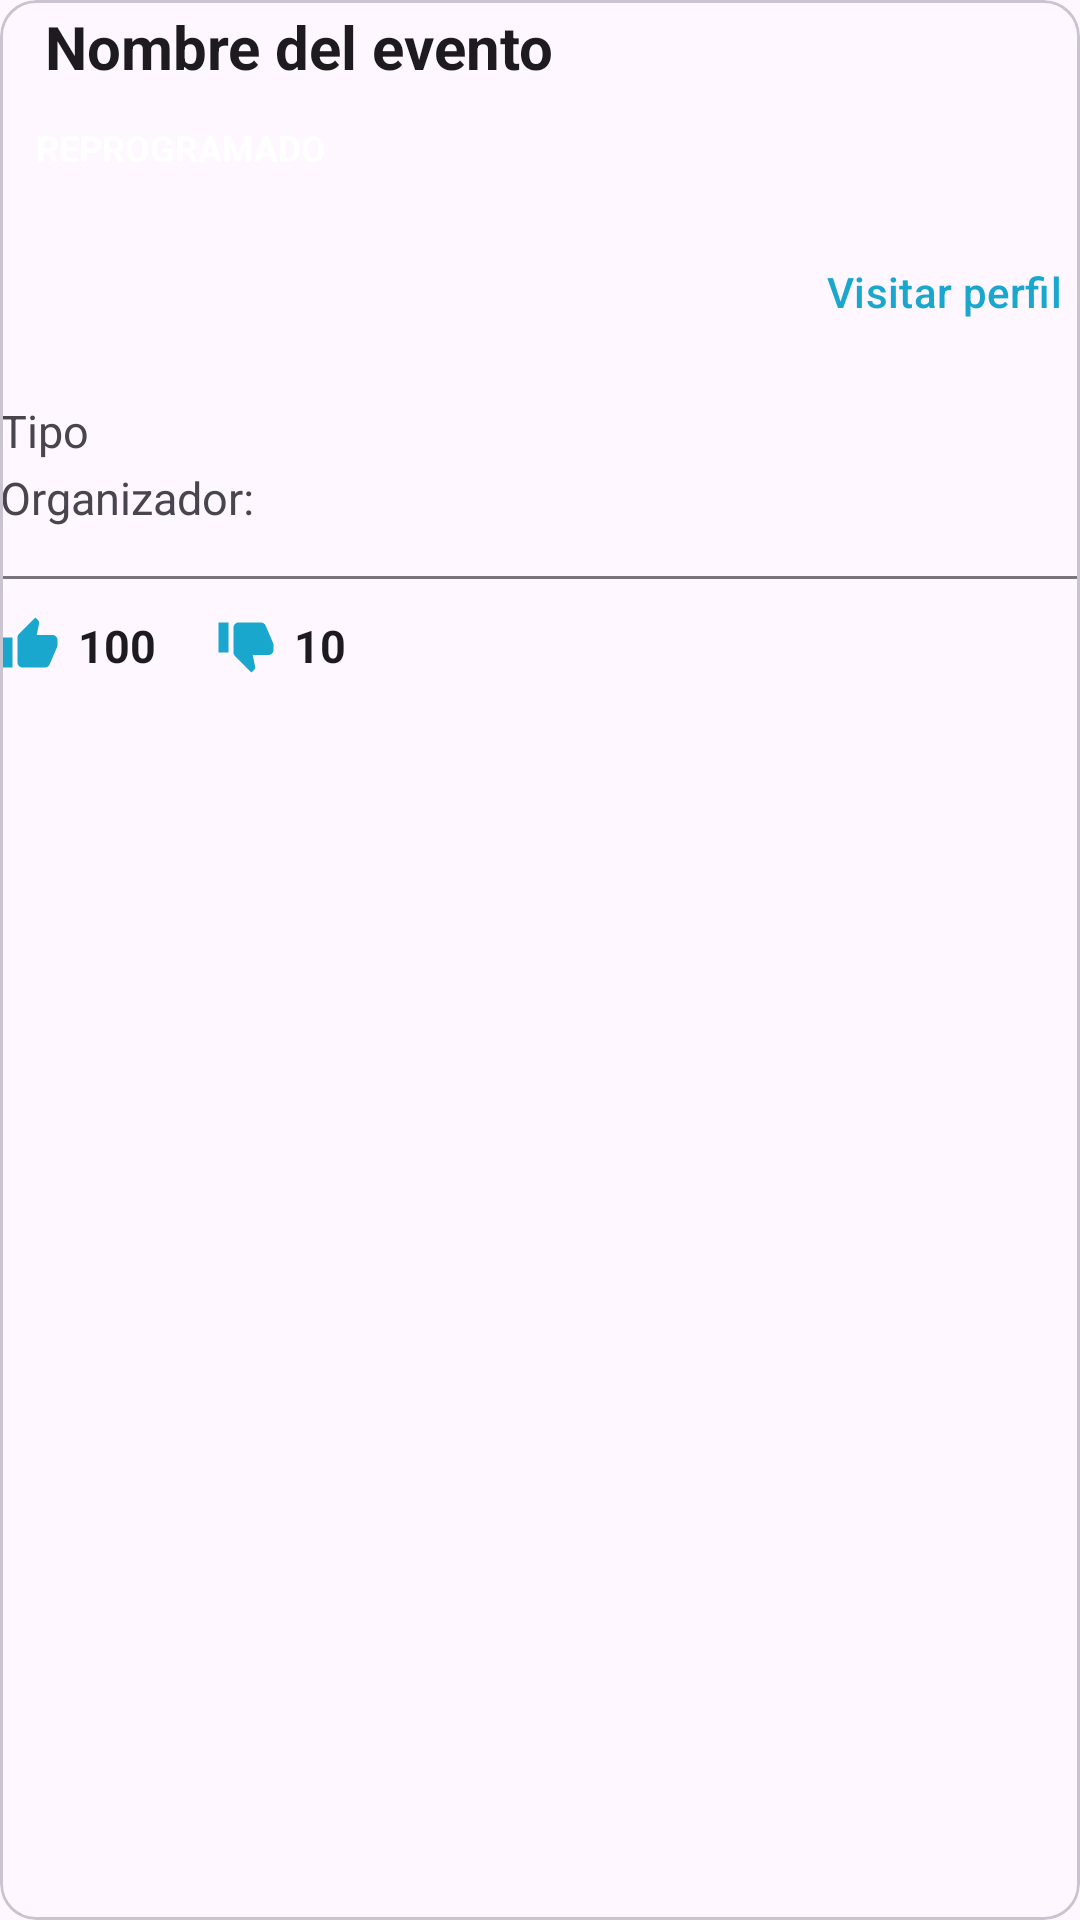

Icon click points for this 1080px x 1920px phone screenshot, format point (x, y):
thumb down: point (246, 647)
thumb up: point (37, 642)
